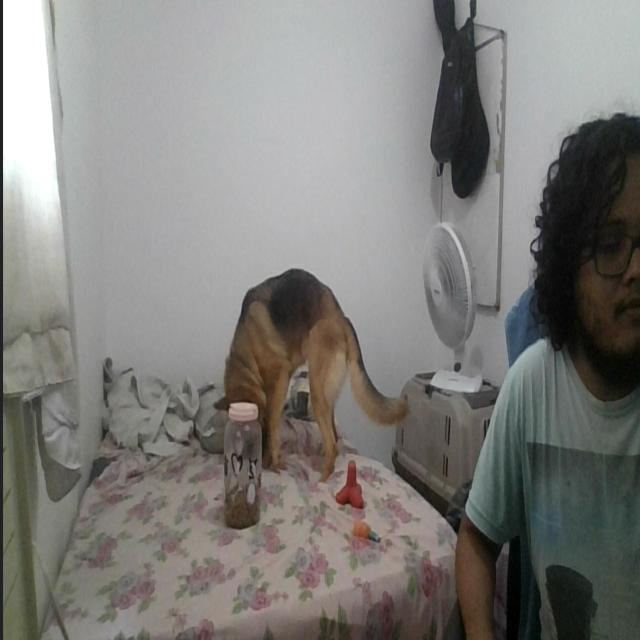brinquedo caro: (335, 455, 368, 514)
cachorro: (208, 261, 410, 496)
cenora de brinquedo: (350, 514, 381, 550)
humano: (456, 114, 640, 640)
racao: (223, 391, 264, 533)
